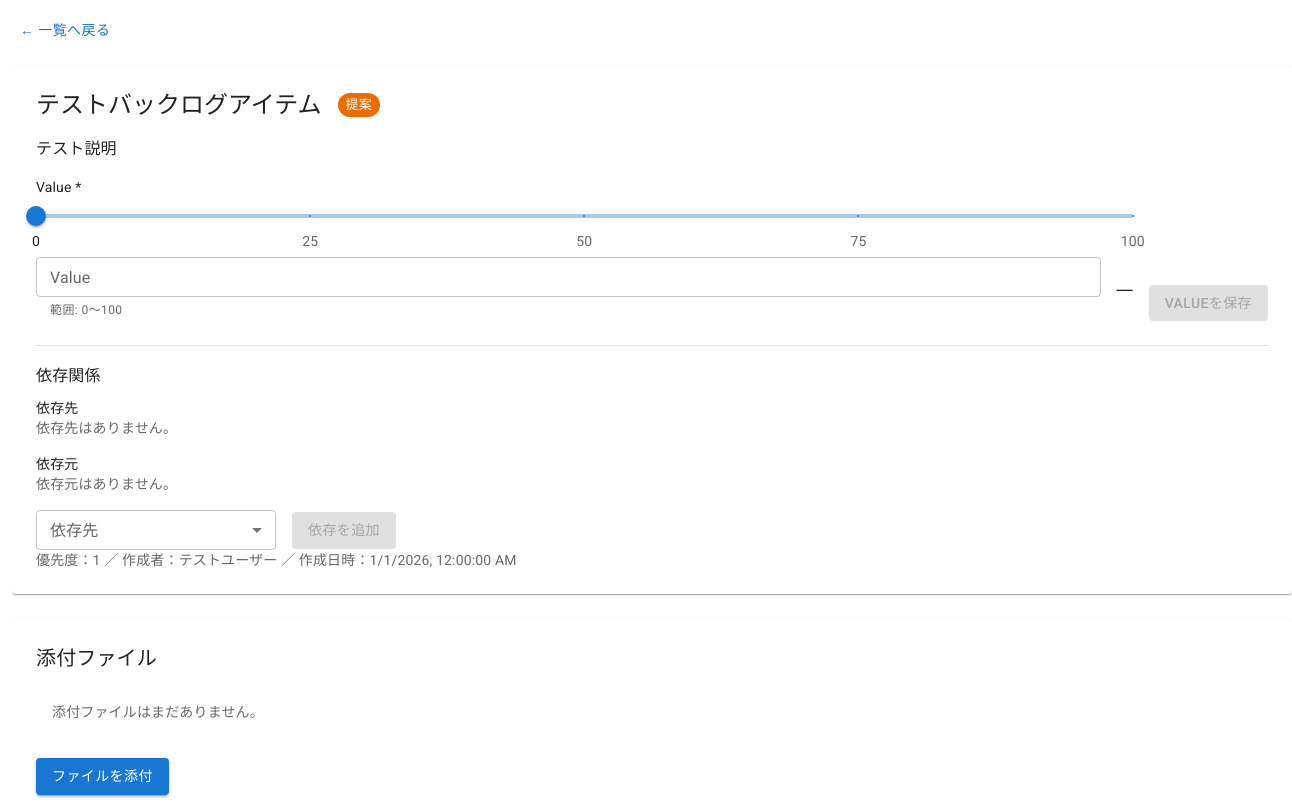
Test: BacklogItemDetail › スライダー › スライダーのつまみにフォーカスしてキーボード矢印キーで値を変えると数値入力フィールドに連動する
Check: the number field labelled "Value" is empty, box [36,257,1100,297]
ArrowRightキーで値を増やす（jsdomではkeydownイベントをディスパッチ）
Press ArrowRight in the slider, box [26,206,46,226]
Set the slider to "25": (36, 216) [26,206,46,226]
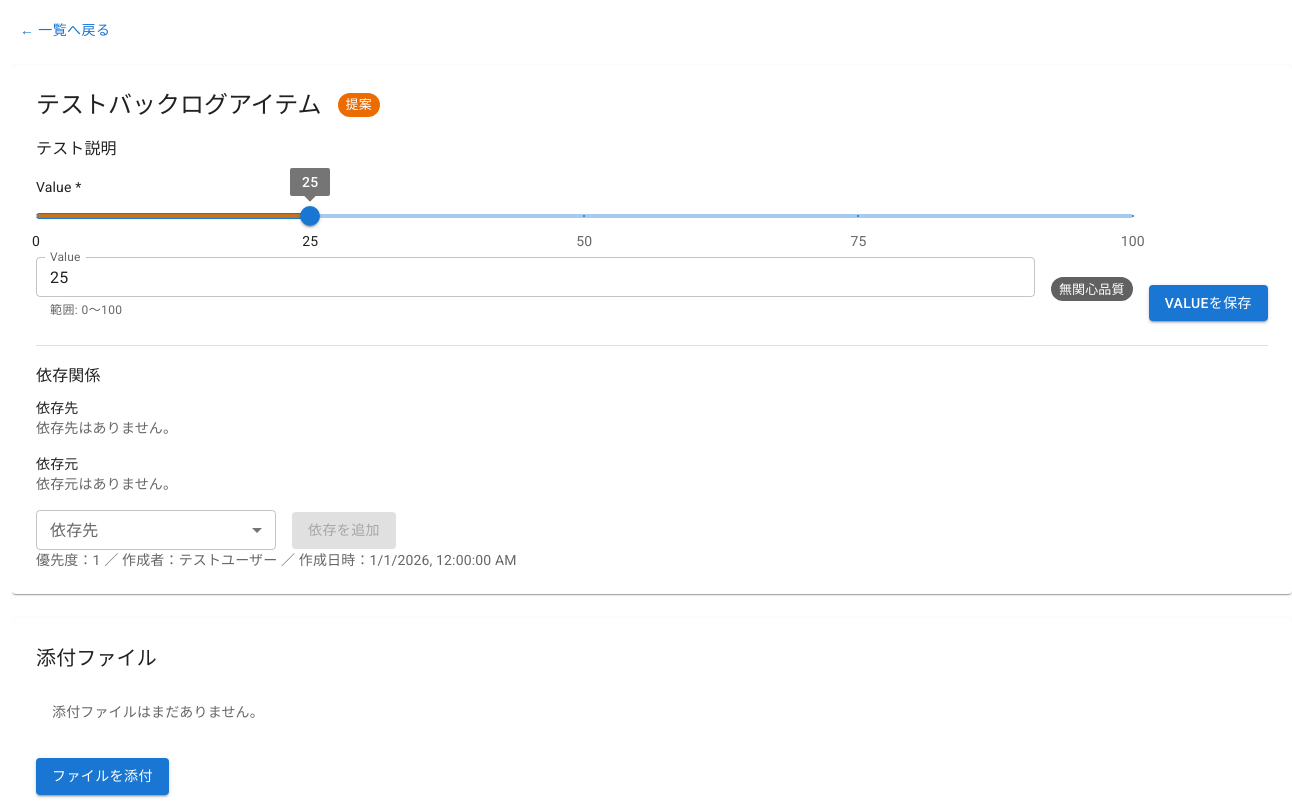
Check: the number field labelled "Value" is not empty, box [36,257,1035,297]
